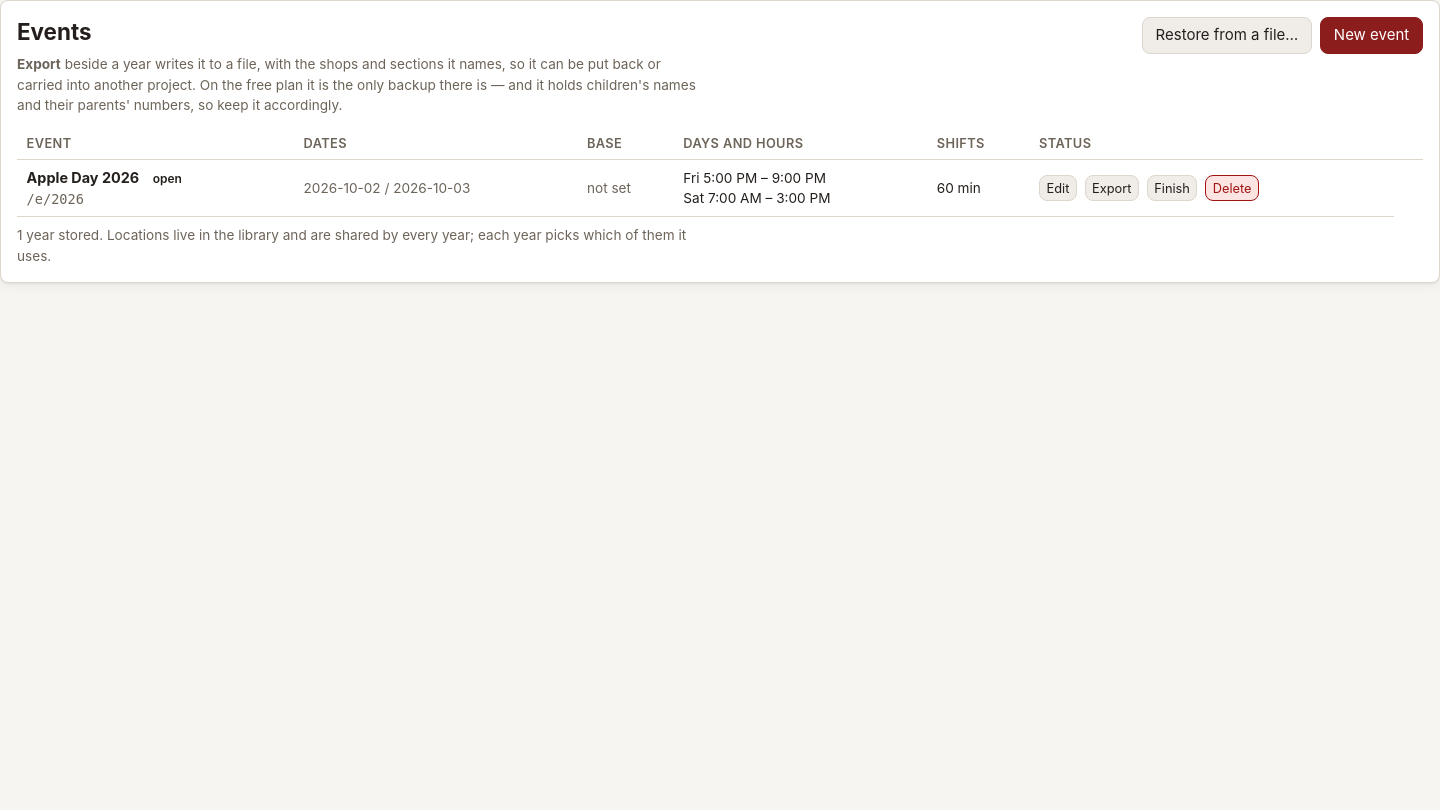
Test: the shift shape › shows how many shifts the hours produce
This screenshot has width=1440, height=810.
Click the button "Edit" at (1058, 188), box [1039,175,1077,201]
(page scrolled)
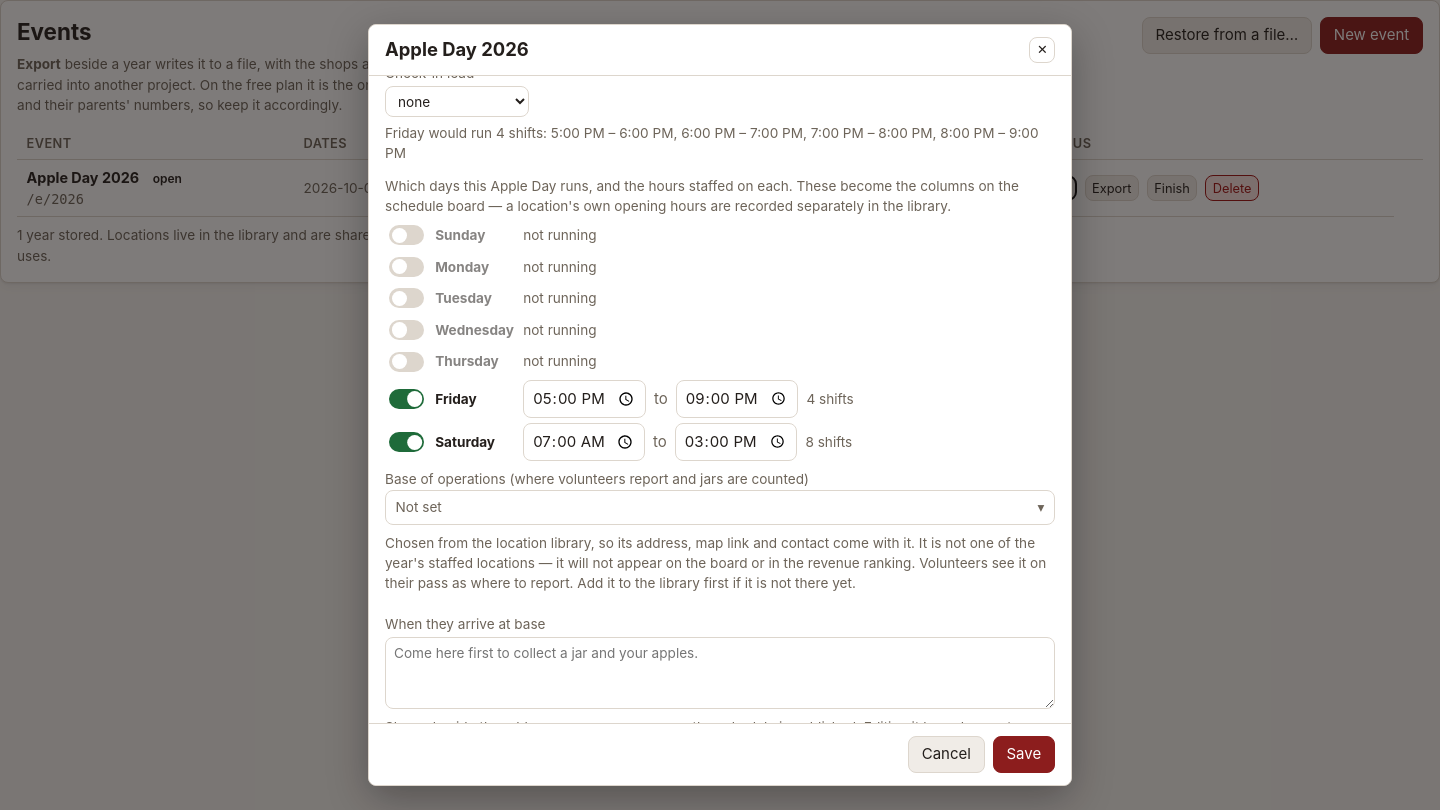
Result: the text "4 shifts" is shown at [806,389,854,409]
